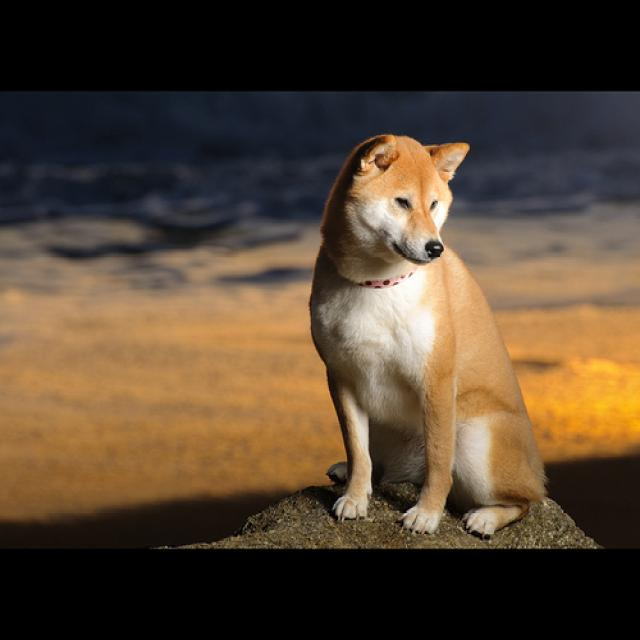dog-shiba_inu: (300, 127, 554, 546)
